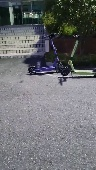beam: (26, 32, 66, 73)
gcooter: (60, 33, 96, 77)
